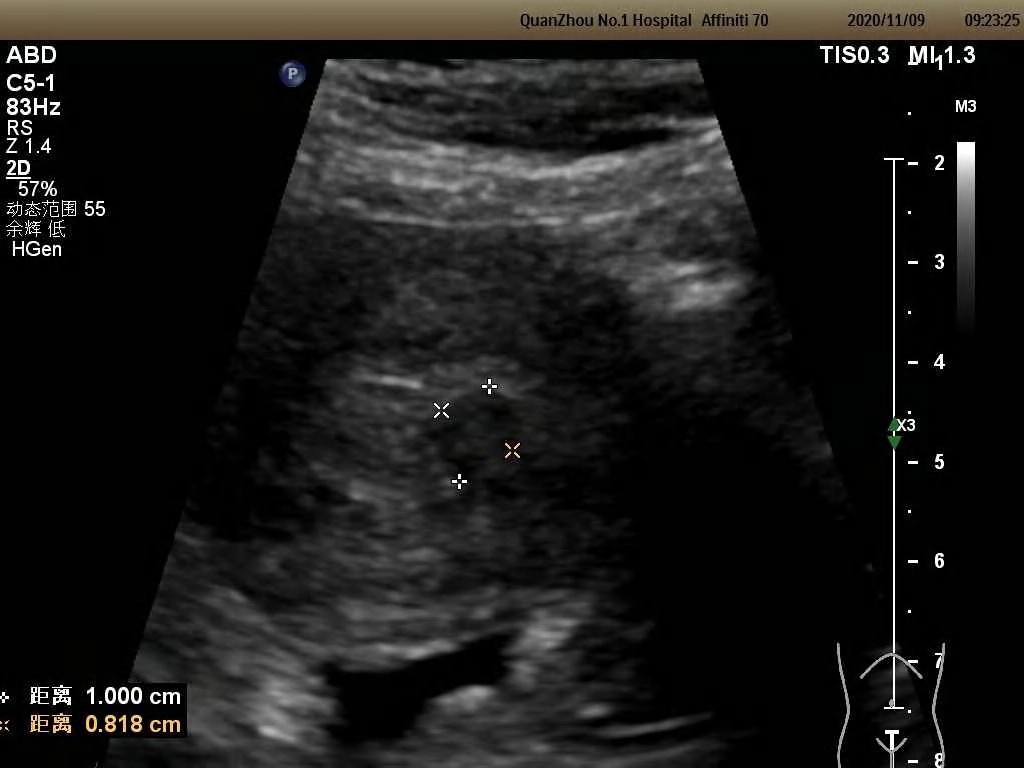肌瘤: (436, 393, 517, 475)
